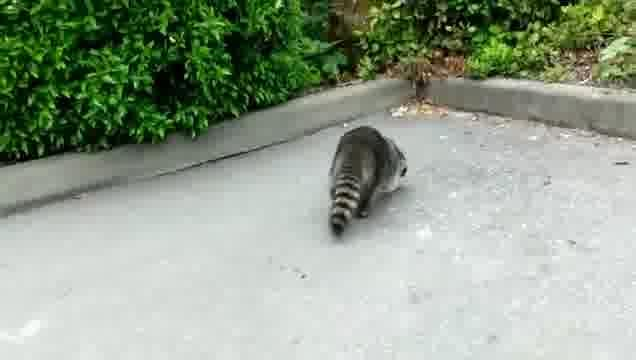raccoon: (324, 119, 410, 244)
